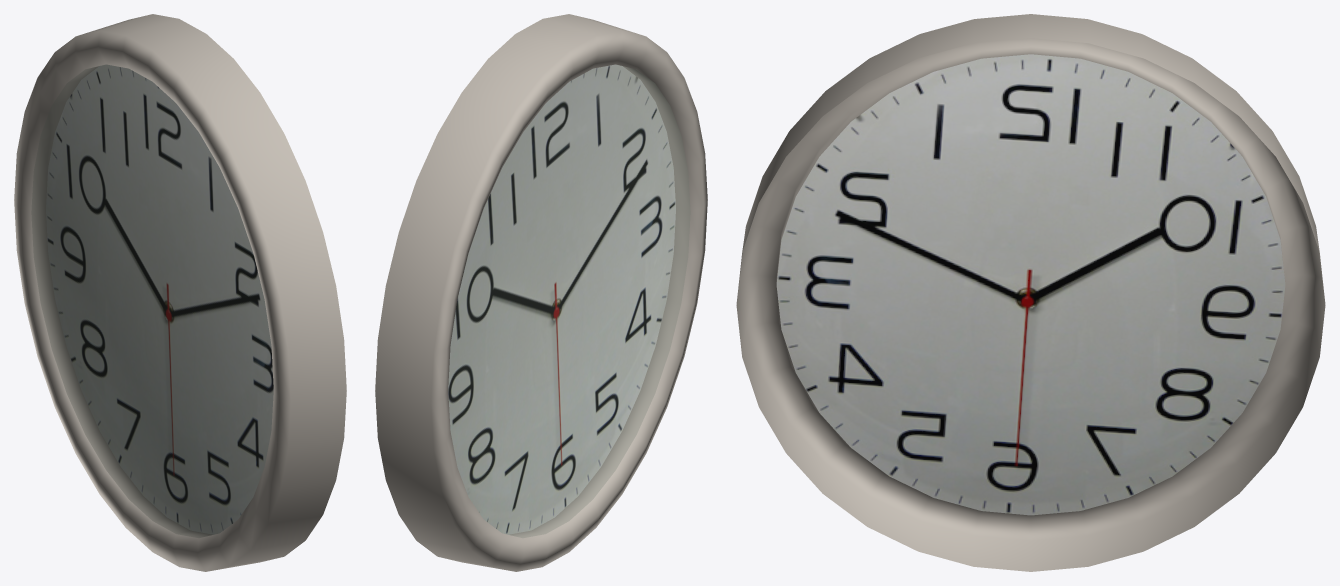
The model's file is Clock.fbx.
3 renders of one model, left to right at view 1: azimuth 30°, elevation 25°; view 2: azimuth 150°, elevation 25°; view 3: azimuth 270°, elevation 25°, orthographic. The views are drawn at different scales.
Visible parts, largest first — view 1: Clock2, Clock_Glass; view 2: Clock2, Clock_Glass; view 3: Clock2.
Boxes of the visible parts, left/top/right/bottom form: Clock2: left=14, top=14, right=346, bottom=571; Clock_Glass: left=31, top=65, right=273, bottom=537; Clock2: left=375, top=14, right=707, bottom=571; Clock_Glass: left=448, top=65, right=690, bottom=537; Clock2: left=736, top=14, right=1325, bottom=571.
Size of the model in its own units: 7.36 by 61.13 by 61.13.
